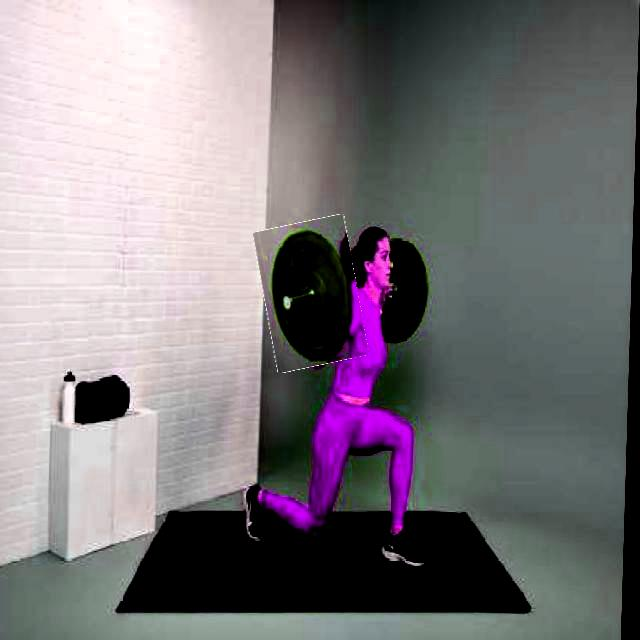barbell: (260, 220, 369, 370)
